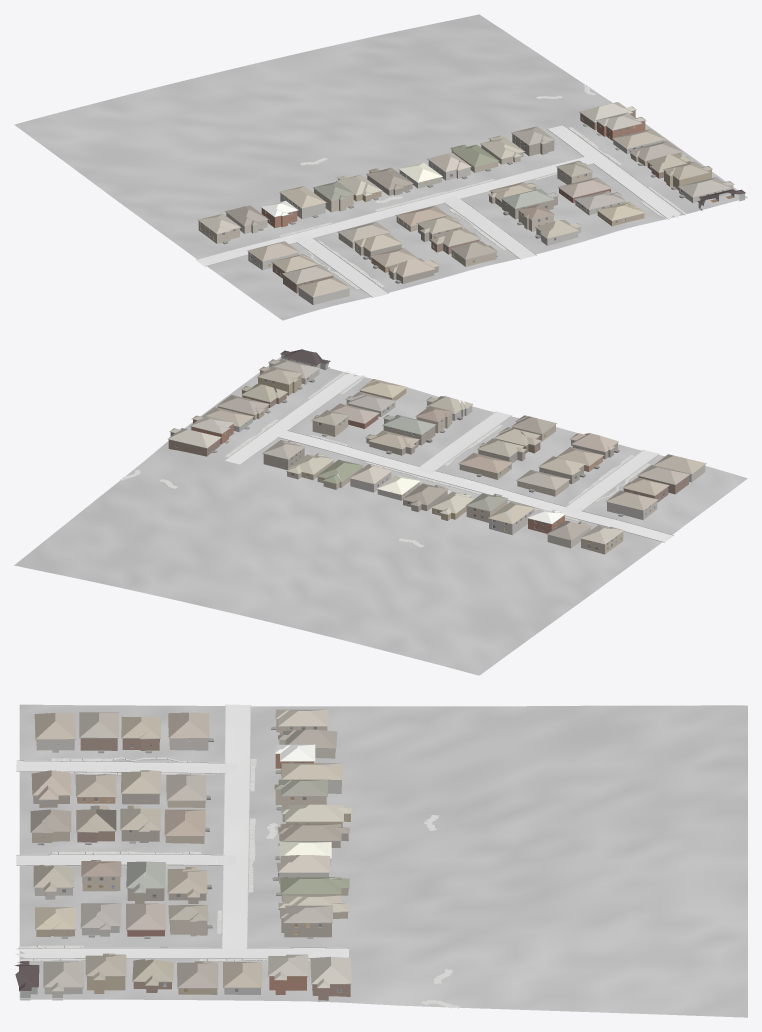
The picture shows the model from 3 angles, top to bottom: view 1: azimuth 30°, elevation 25°; view 2: azimuth 150°, elevation 25°; view 3: azimuth 270°, elevation 25°; orthographic projection. The views are drawn at different scales.
Visible parts, largest first — view 1: ground, roof, concrete, wall, detail, wall_stucco, wall_stone, walk, curb; view 2: ground, roof, concrete, wall, wall_stucco, detail, walk, wall_stone, curb; view 3: ground, roof, concrete, wall, wall_stucco, walk, detail, curb, wall_stone.
Boxes of the visible parts, x1,y1,x2,y2 form: ground: [14, 14, 747, 320]; roof: [198, 102, 745, 297]; concrete: [196, 125, 680, 297]; wall: [261, 110, 711, 293]; detail: [198, 109, 734, 297]; wall_stucco: [198, 140, 744, 248]; wall_stone: [248, 160, 733, 305]; walk: [280, 84, 686, 289]; curb: [196, 125, 684, 297]; ground: [14, 357, 747, 675]; roof: [168, 349, 705, 544]; concrete: [225, 373, 673, 541]; wall: [168, 370, 688, 533]; wall_stucco: [233, 354, 623, 554]; detail: [168, 354, 706, 550]; walk: [120, 371, 650, 547]; wall_stone: [269, 363, 705, 535]; curb: [225, 371, 673, 542]; ground: [19, 704, 747, 1017]; roof: [14, 709, 352, 991]; concrete: [15, 704, 348, 958]; wall: [32, 738, 350, 1001]; wall_stucco: [20, 719, 335, 1000]; walk: [18, 757, 458, 1008]; detail: [19, 718, 351, 992]; curb: [16, 704, 348, 961]; wall_stone: [34, 738, 341, 1000].
Size of the model in its own units: 252 by 15.03 by 252.
